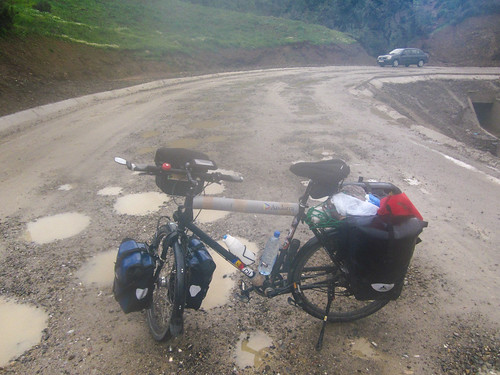bicicle: (116, 145, 419, 342)
car: (375, 44, 431, 67)
grass: (1, 1, 344, 49)
road: (1, 58, 485, 375)
